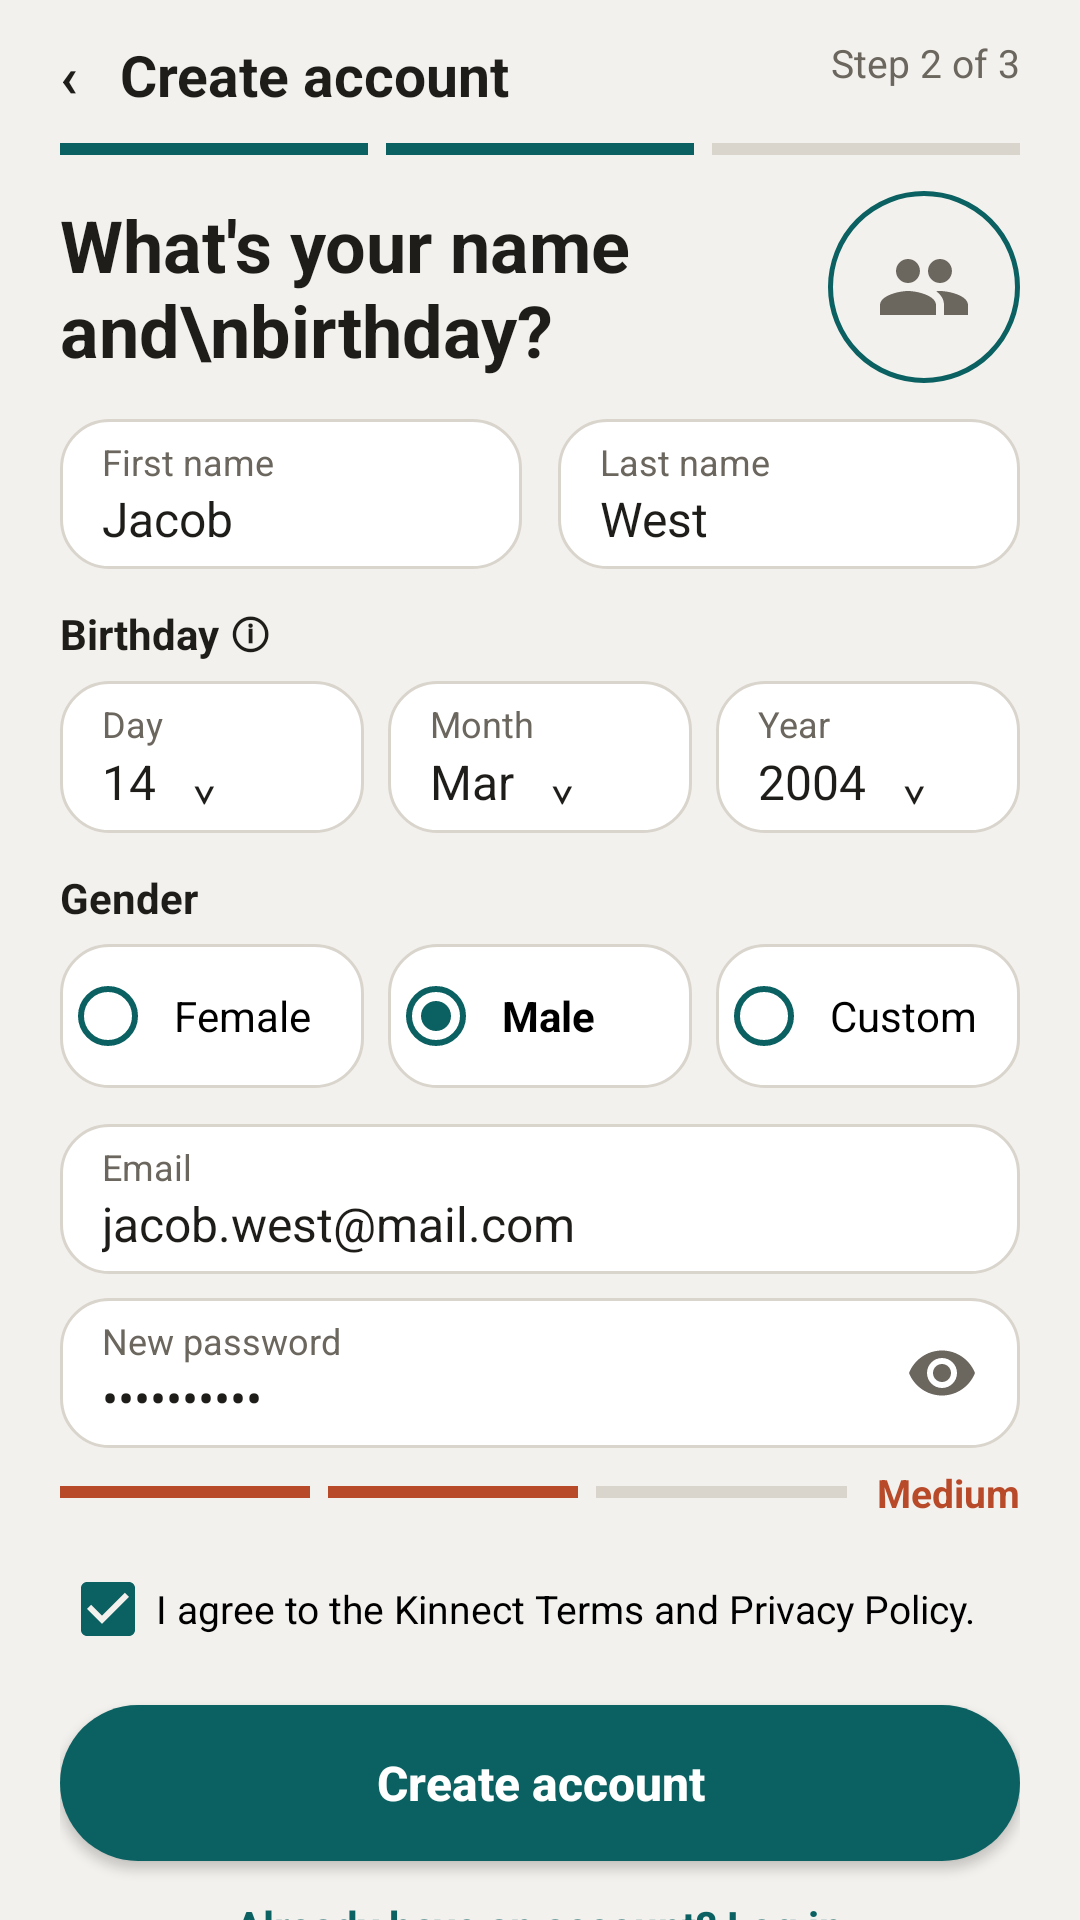

Named icons in this screenshot (1080*1920) and their centers, (x=x, y=y):
people: (x=924, y=287)
visibility: (x=942, y=1373)
